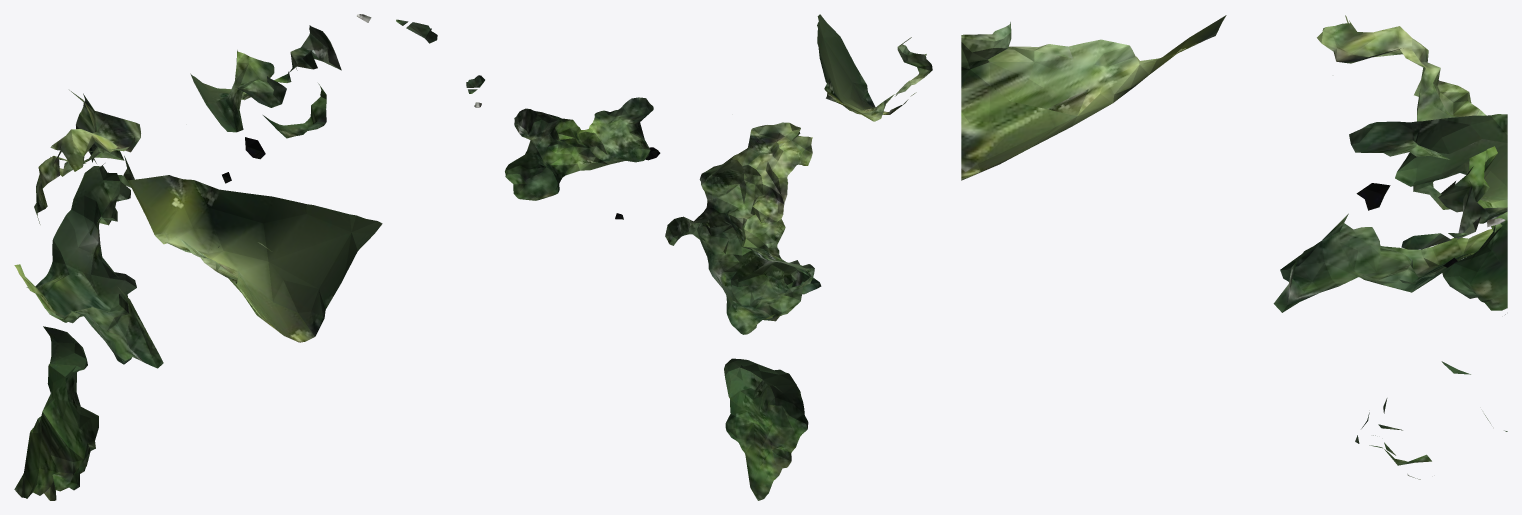
3 views of the same model, side by side, from view 1: azimuth 30°, elevation 25°; view 2: azimuth 150°, elevation 25°; view 3: azimuth 270°, elevation 25° (orthographic). The views are drawn at different scales.
Bounding box in the file's own units: 26.11 × 25.67 × 26.11.
2 materials, 2 textured.
